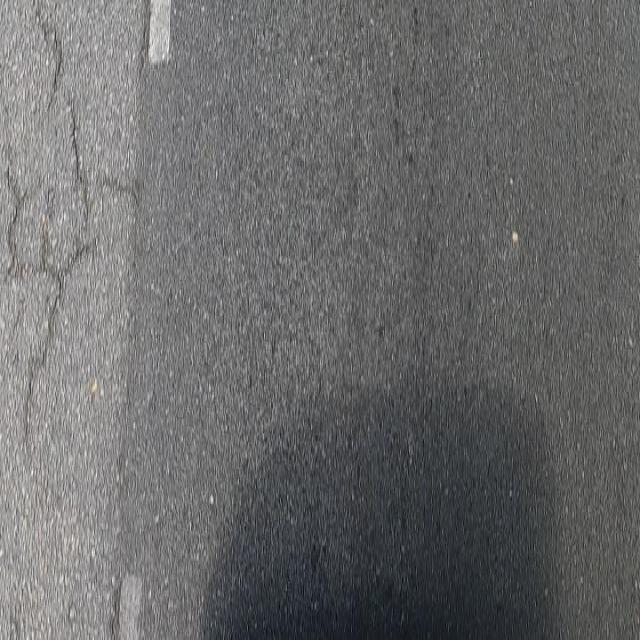cracks: (0, 0, 146, 491)
